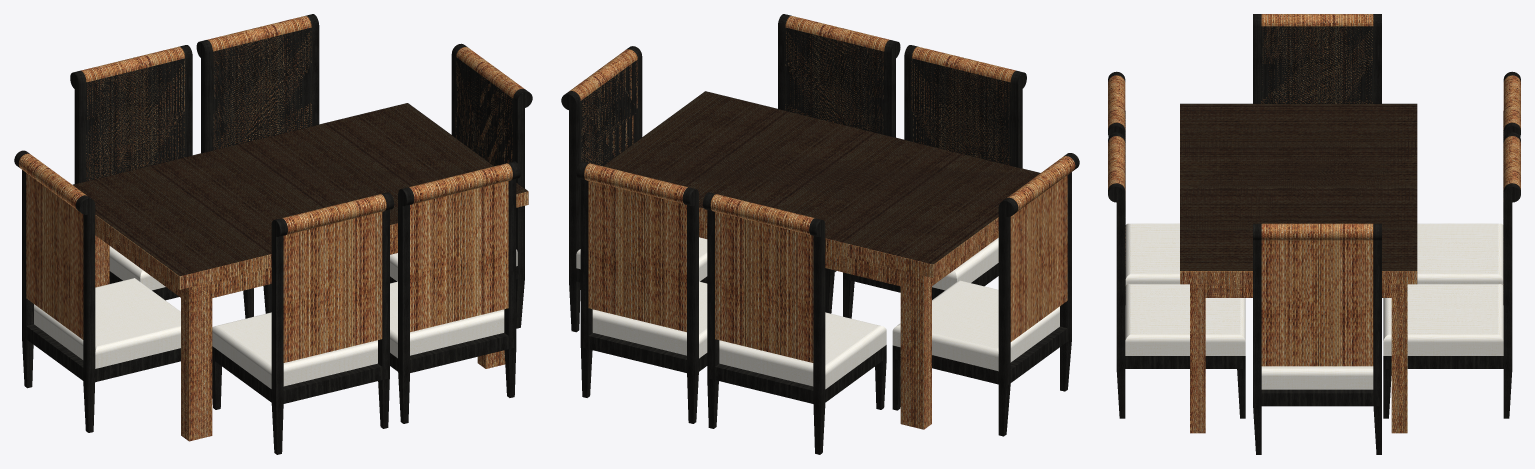
File: dining furniture 6.dae
The picture shows the model from 3 angles, left to right: view 1: azimuth 30°, elevation 25°; view 2: azimuth 150°, elevation 25°; view 3: azimuth 270°, elevation 25°; orthographic projection.
Visible parts, largest first — view 1: group_18 (×2), Component_2, group_6 (×2), group_31 (×2), group_25 (×2), group_12 (×3), group_19 (×3), group_0 (×3), group_27, group_8, group_33, group_14 (+4 smaller); view 2: group_18 (×2), Component_2, group_12 (×2), group_19 (×2), group_25 (×2), group_6 (×3), group_31 (×3), group_0 (×3), group_27, group_14, group_21, group_8 (+5 smaller); view 3: group_18 (×2), Component_2, group_0 (×2), group_25 (×3), group_21, group_33, group_14, group_19 (×2), group_31 (×2), group_8, group_2, group_6 (+1 smaller).
Part boxes in pixels (left/top/right/bottom): group_18 (×2): left=73, top=103, right=528, bottom=441; Component_2: left=72, top=103, right=527, bottom=276; group_6 (×2): left=212, top=192, right=389, bottom=405; group_31 (×2): left=390, top=161, right=516, bottom=374; group_25 (×2): left=18, top=150, right=180, bottom=383; group_12 (×3): left=74, top=45, right=192, bottom=300; group_19 (×3): left=201, top=14, right=319, bottom=153; group_0 (×3): left=390, top=44, right=524, bottom=283; group_27: left=34, top=278, right=180, bottom=368; group_8: left=212, top=312, right=377, bottom=388; group_33: left=390, top=281, right=504, bottom=358; group_14: left=109, top=246, right=165, bottom=290; group_18 (×2): left=604, top=91, right=1039, bottom=429; Component_2: left=603, top=91, right=1040, bottom=264; group_12 (×2): left=707, top=192, right=886, bottom=405; group_19 (×2): left=580, top=161, right=707, bottom=374; group_25 (×2): left=892, top=153, right=1075, bottom=386; group_6 (×3): left=843, top=45, right=1022, bottom=299; group_31 (×3): left=778, top=14, right=895, bottom=275; group_0 (×3): left=569, top=46, right=707, bottom=283; group_27: left=892, top=280, right=1059, bottom=371; group_14: left=719, top=312, right=886, bottom=389; group_21: left=592, top=281, right=707, bottom=358; group_8: left=932, top=238, right=998, bottom=290; group_18 (×2): left=1180, top=104, right=1417, bottom=433; Component_2: left=1180, top=103, right=1417, bottom=270; group_0 (×2): left=1253, top=223, right=1381, bottom=406; group_25 (×3): left=1253, top=14, right=1381, bottom=103; group_21: left=1383, top=284, right=1503, bottom=355; group_33: left=1125, top=284, right=1245, bottom=355; group_14: left=1417, top=223, right=1503, bottom=285; group_19 (×2): left=1383, top=132, right=1520, bottom=368; group_31 (×2): left=1108, top=132, right=1245, bottom=368; group_8: left=1125, top=223, right=1179, bottom=285; group_2: left=1261, top=366, right=1373, bottom=389; group_6: left=1108, top=75, right=1125, bottom=129.
Bounding box in the file's own units: 70.47 × 56.69 × 35.12.
8 materials, 7 textured.
